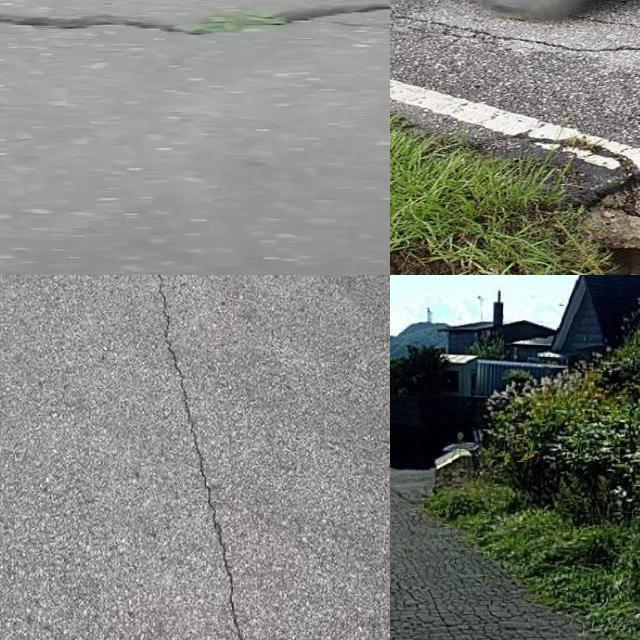Melintang: (0, 0, 390, 49)
Memanjang: (133, 275, 263, 640)
Pinggir: (500, 159, 640, 275)
Retak Buaya: (390, 503, 610, 640)
